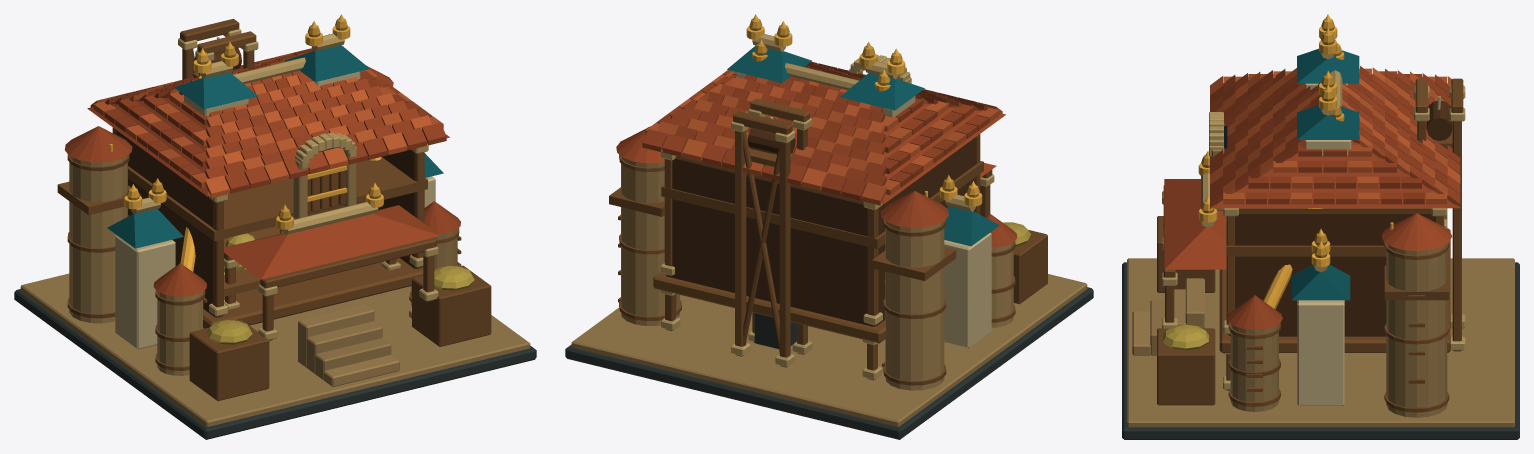
3 renders of one model, left to right at view 1: azimuth 30°, elevation 25°; view 2: azimuth 150°, elevation 25°; view 3: azimuth 270°, elevation 25°, orthographic. The views are drawn at different scales.
Visible parts, largest first — view 1: granary_13_structure, granary_13_metal; view 2: granary_13_structure, granary_13_metal; view 3: granary_13_structure, granary_13_metal.
Boxes of the visible parts, <box> form: granary_13_structure: <box>14,18,536,439</box>; granary_13_metal: <box>109,14,383,271</box>; granary_13_structure: <box>565,18,1093,439</box>; granary_13_metal: <box>746,14,982,206</box>; granary_13_structure: <box>1122,18,1519,439</box>; granary_13_metal: <box>1198,14,1393,309</box>.
Bounding box in the file's own units: 5.6 × 4.78 × 5.6.
